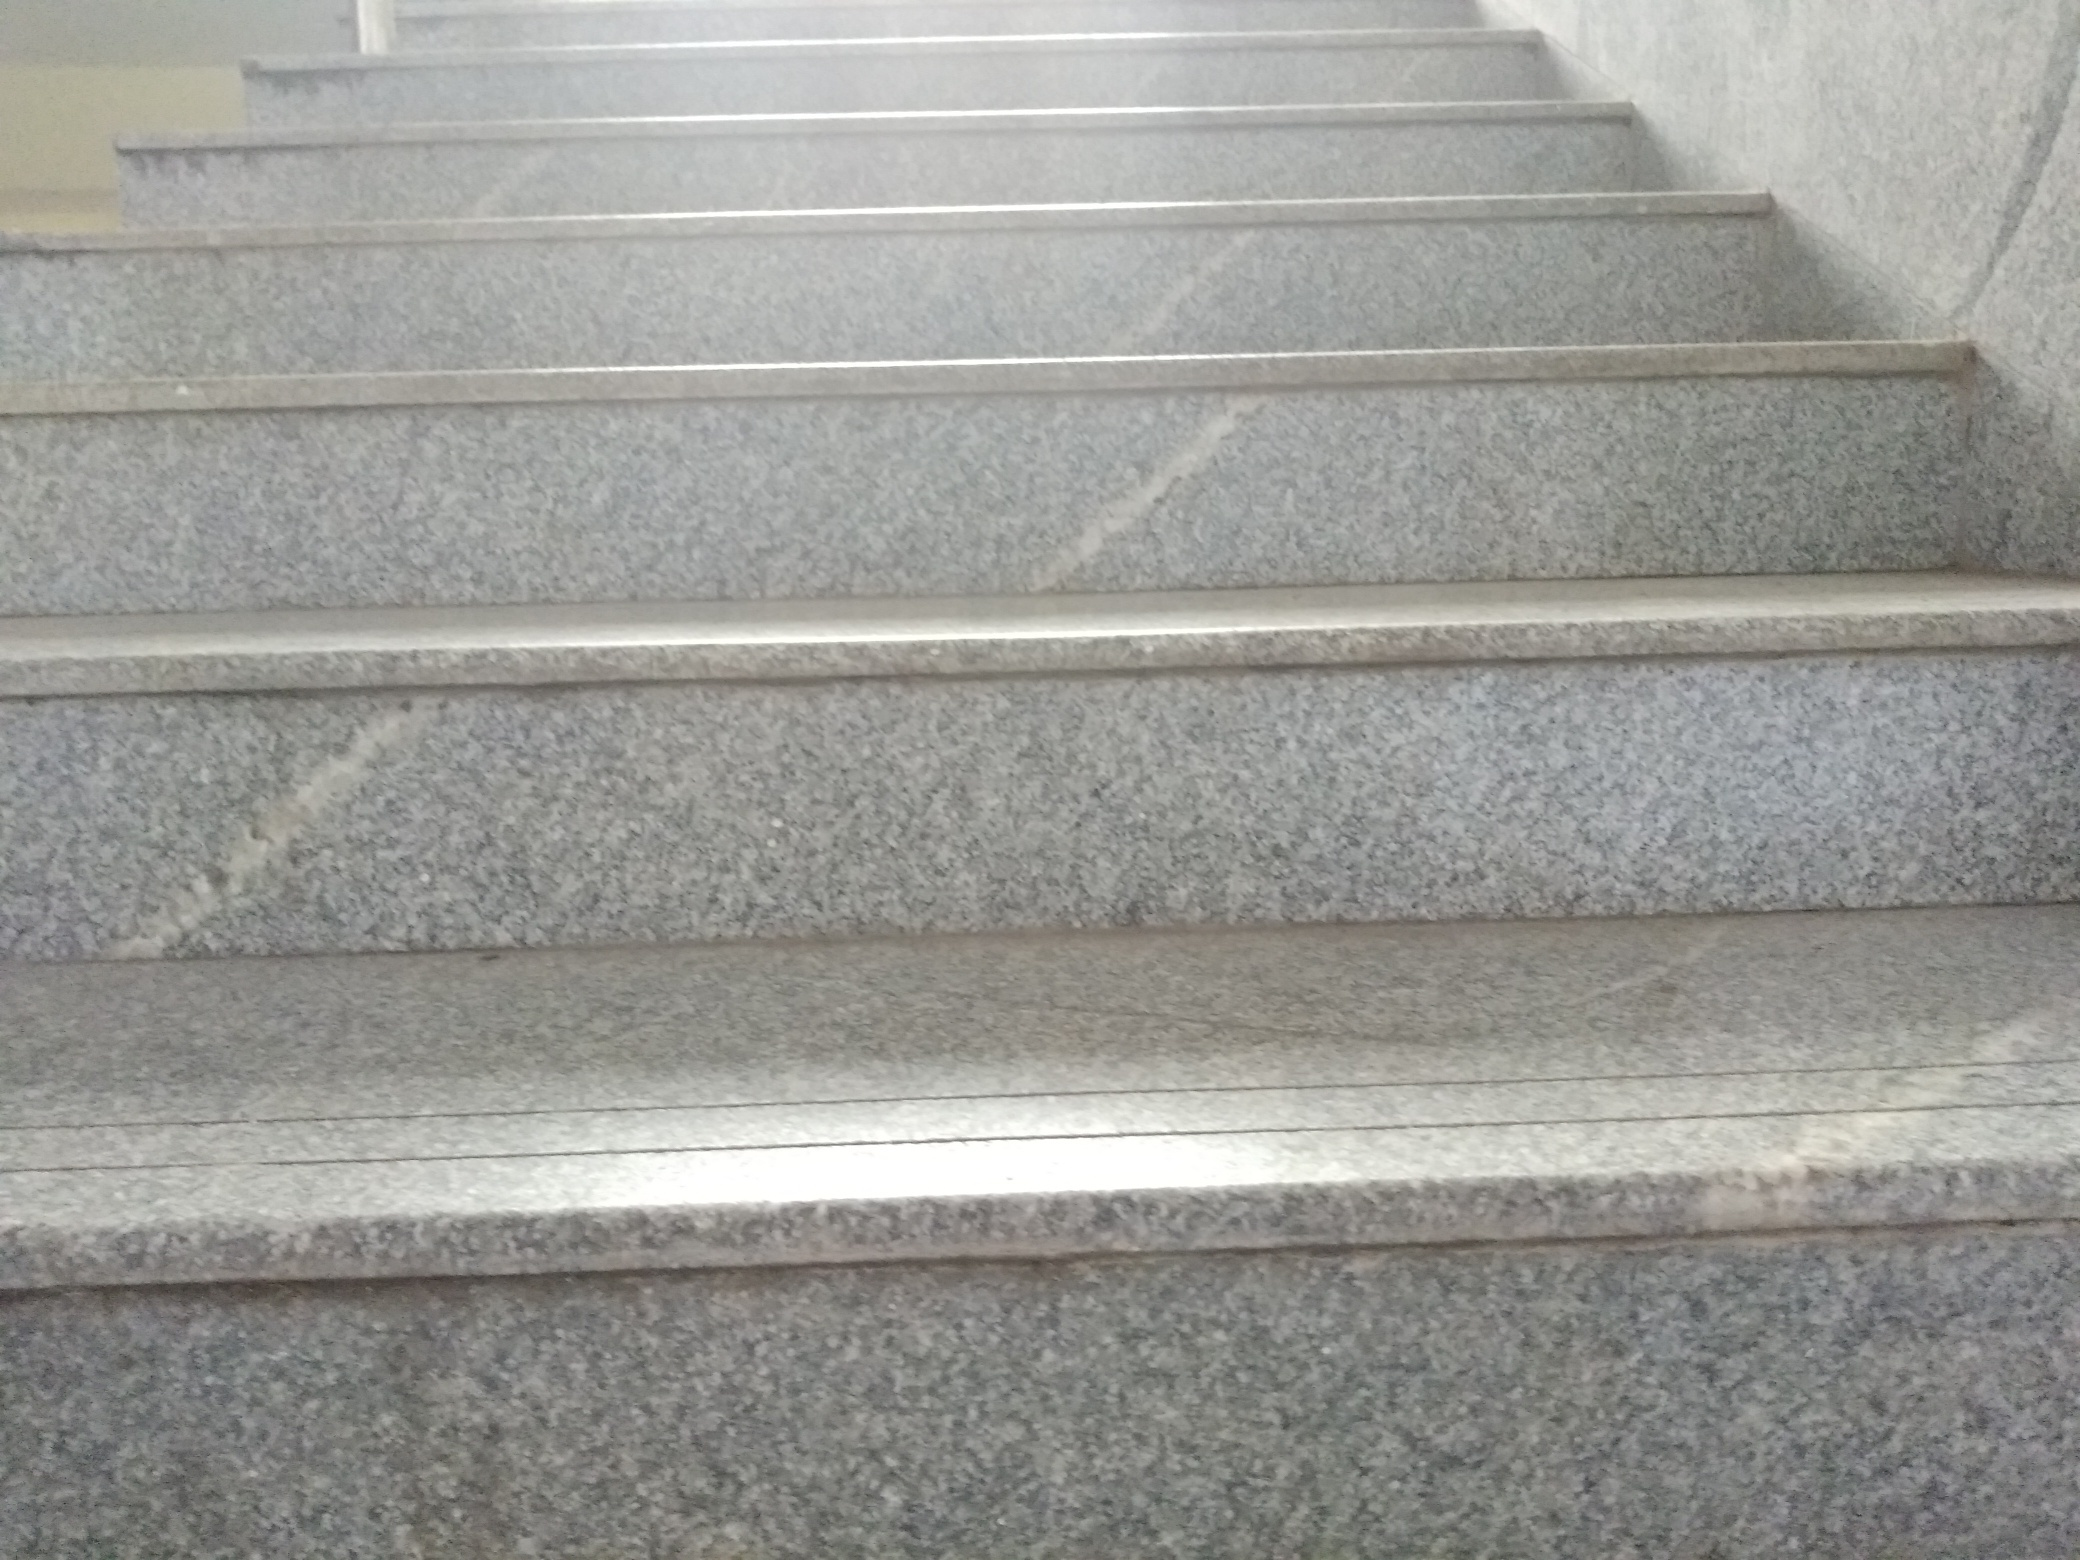stairs_up: (3, 3, 2080, 1483)
